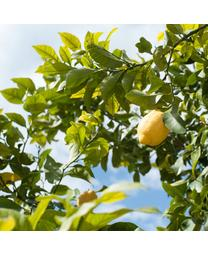lemon: (139, 109, 170, 147)
